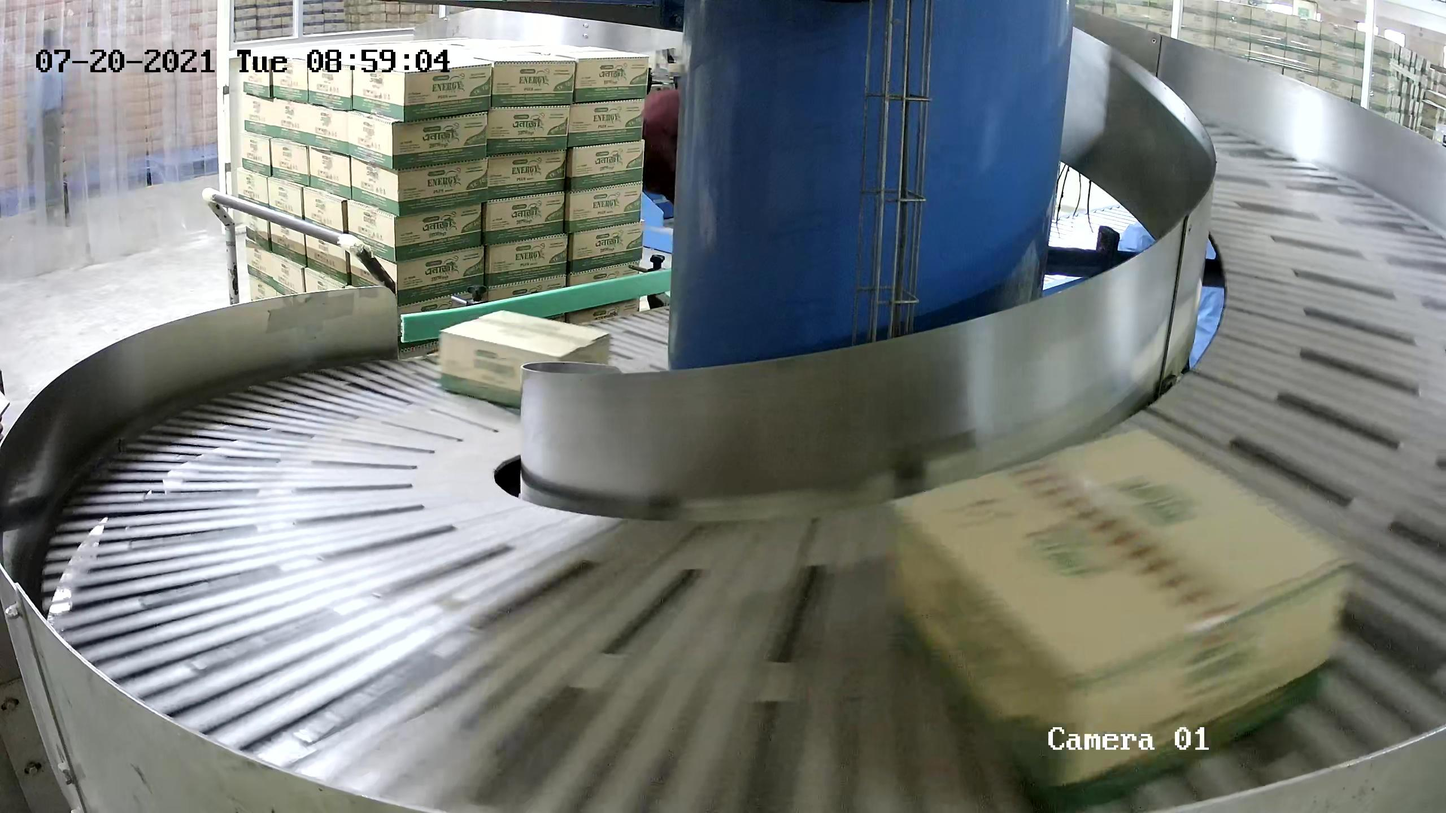Box: (888, 427, 1351, 813), (437, 309, 611, 412)
